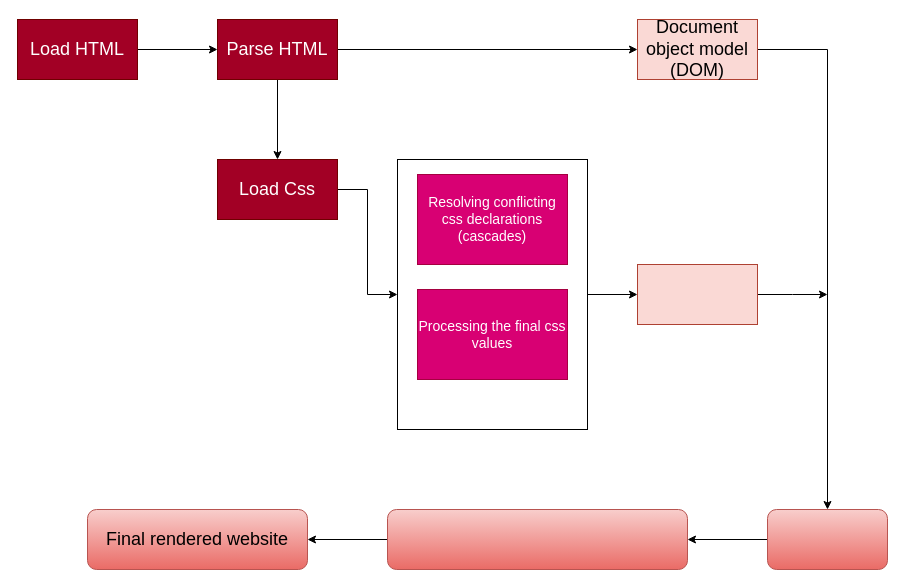
Image size: 905x587. Some labels were removed from this diagram. Here are the shapes that lost their labels. From the top down, the centre of each, then its label:
At [697,294]: "CssObject Model (cssom)".
At [537,539]: "Website Rendering the visual formating model".
At [827,539]: "Render Tree".
